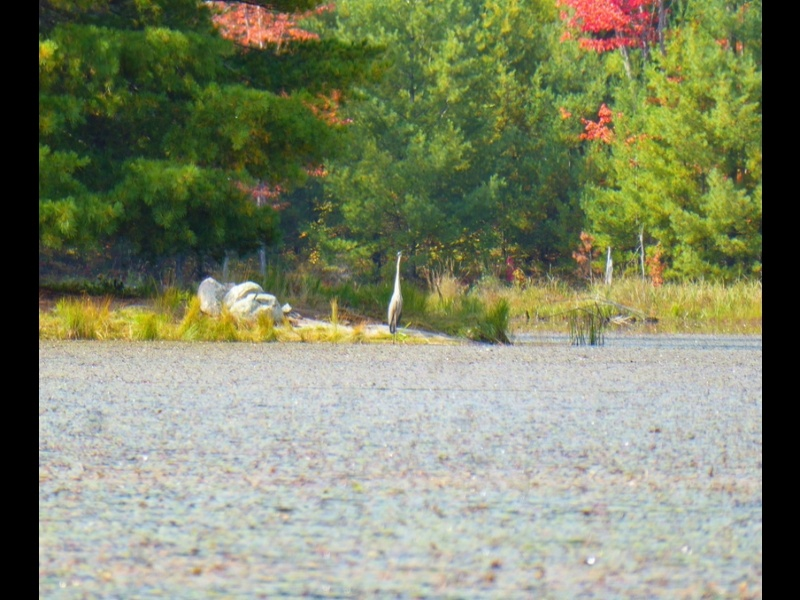heron: (384, 250, 408, 335)
